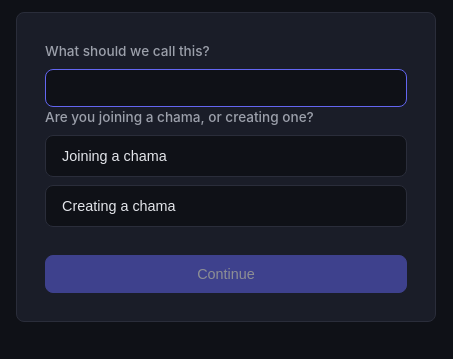
Test: NamingScreen › shows the backend error message when registration fails
Type "Amina" into the field with test id "naming-name-input" at (226, 88), box [45,69,407,107]
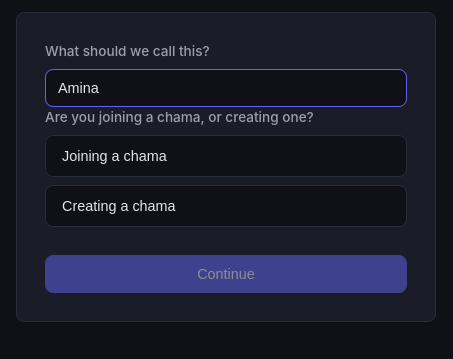
Click the radio button with test id "kind-option-user" at (114, 156), box [45,134,407,176]
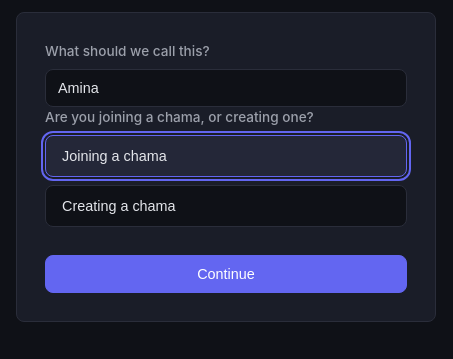
Click the button with test id "naming-submit" at (226, 274), box [45,254,407,292]
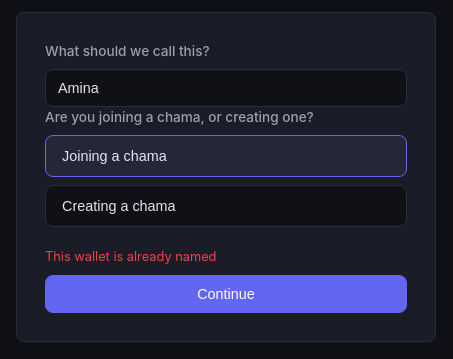
Check: the message with test id "naming-error" reads "This wallet is already named", box [45,248,216,264]
